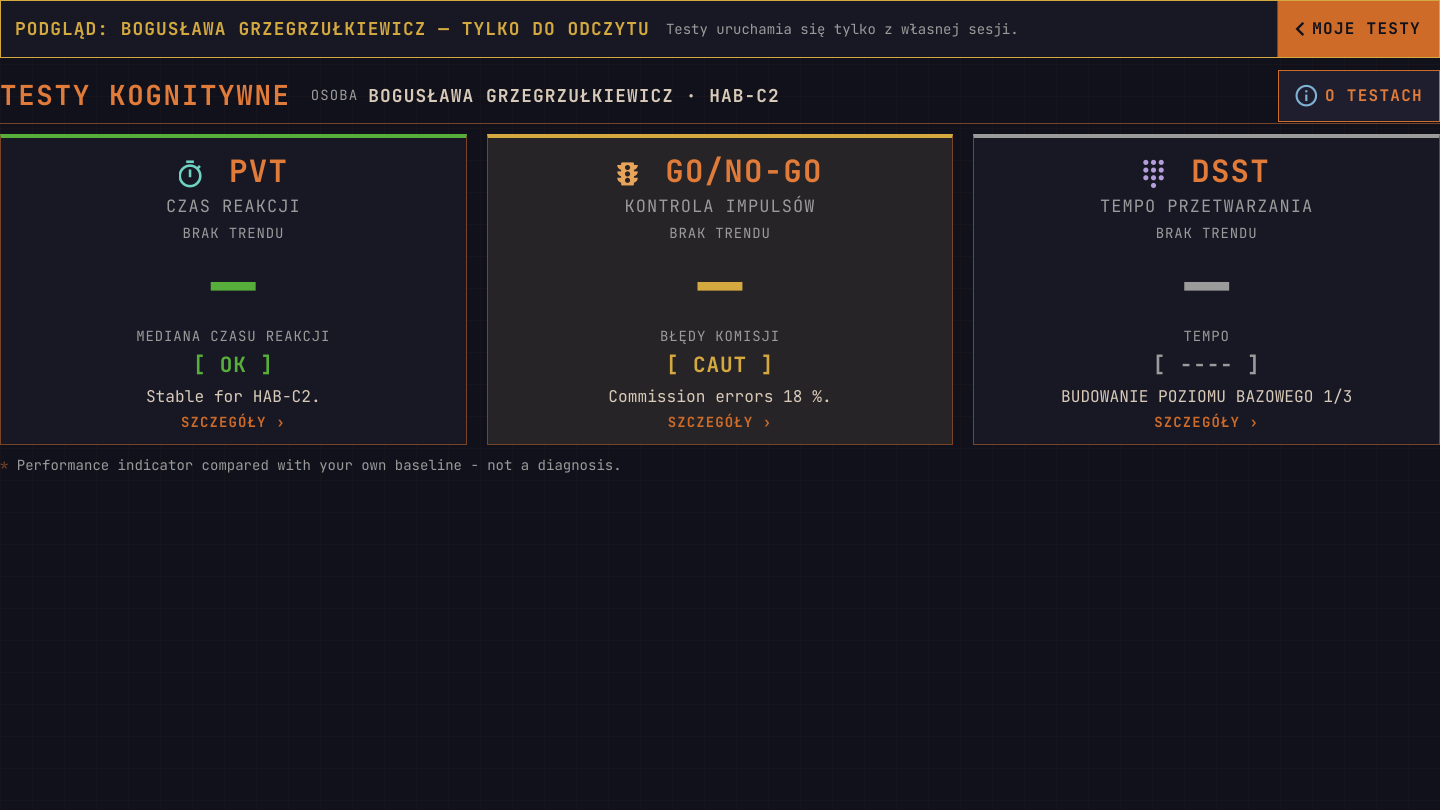
TestsScreen › is translated
This screenshot has width=1440, height=810.
Expected: the message with test id "read-only-banner" shows "PODGLĄD: BOGUSŁAWA GRZEGRZUŁKIEWICZ — TYLKO DO ODCZYTU", [15,17,650,40]
Expected: the heading "Testy kognitywne" is shown, [0,78,291,113]
Click the button with test id "tile-gonogo" at (720, 289), box [487,134,953,445]
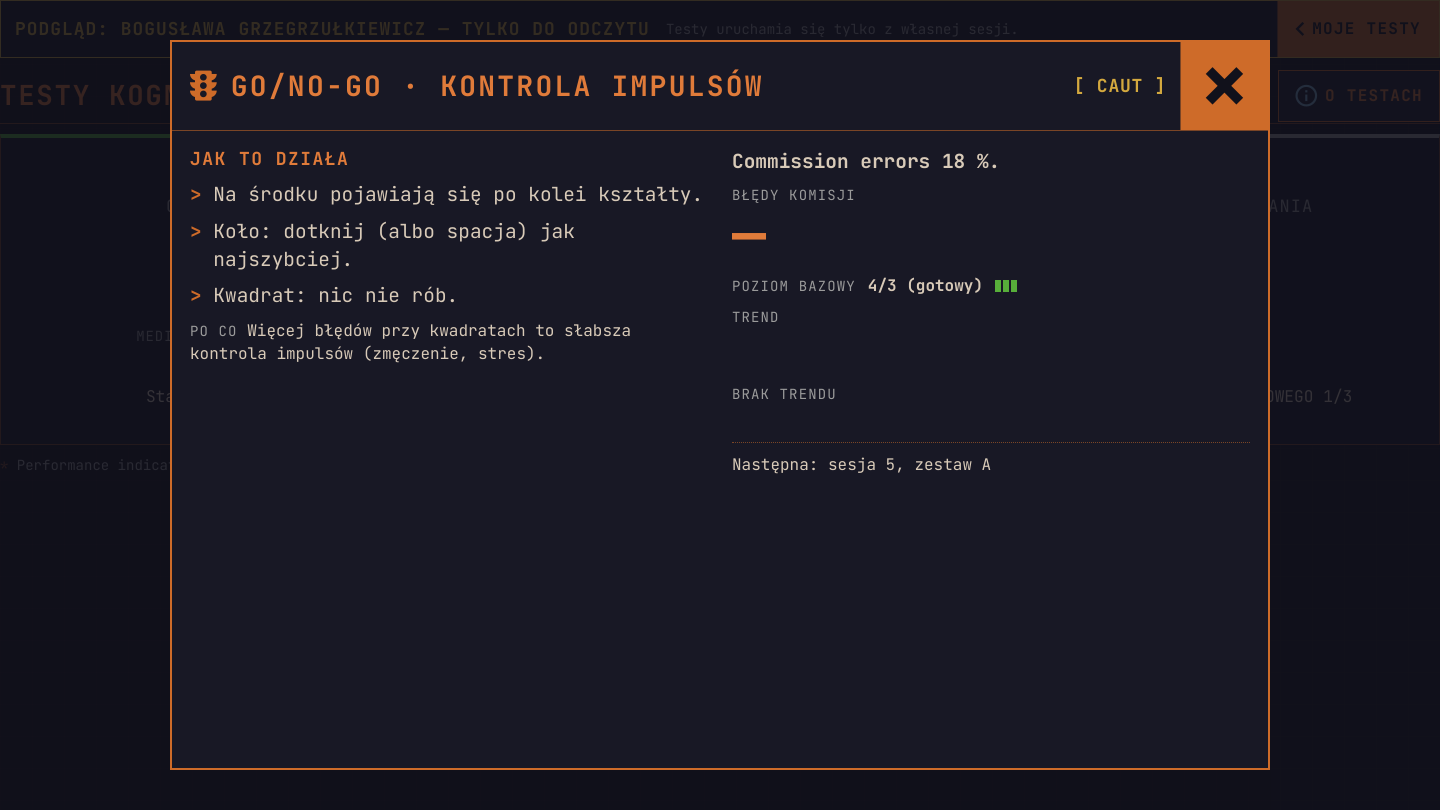
Expected: the dialog shows "Jak to działa", [190,147,349,170]
Expected: the dialog shows "Kwadrat: nic nie rób.", [213,282,458,308]
